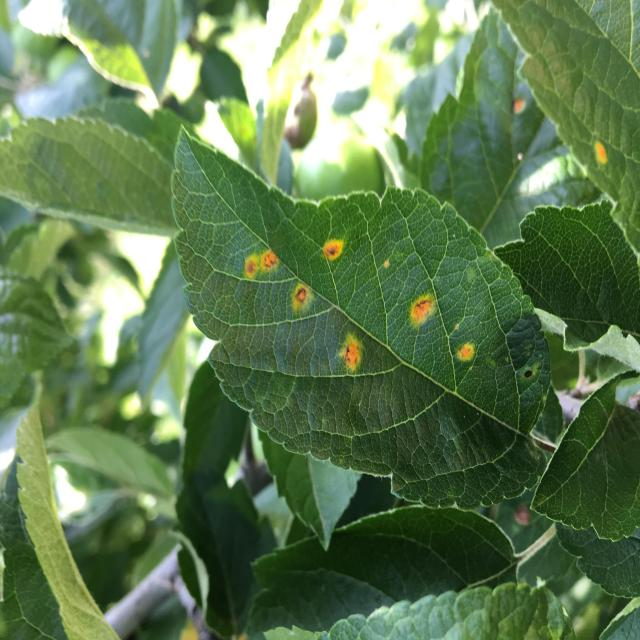Rust: (404, 286, 444, 334), (335, 329, 368, 380), (511, 494, 537, 539), (289, 270, 311, 317), (260, 235, 279, 282), (456, 342, 482, 376), (589, 134, 612, 172), (317, 238, 350, 264), (240, 250, 259, 286), (508, 91, 530, 121), (448, 318, 466, 336), (378, 250, 392, 272)
